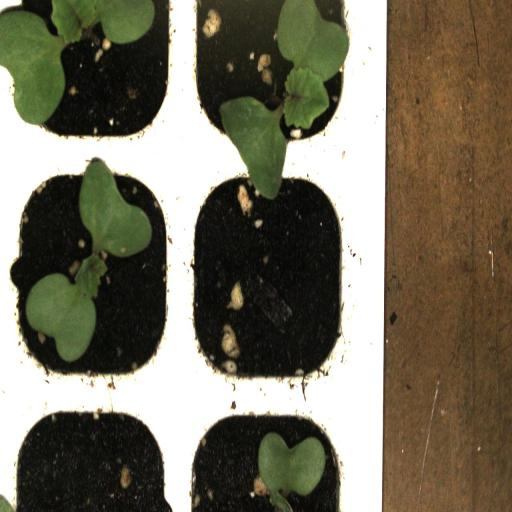Folha: (258, 432, 327, 512)
Germinacao: (12, 156, 184, 394), (180, 0, 352, 154), (14, 0, 180, 156)
